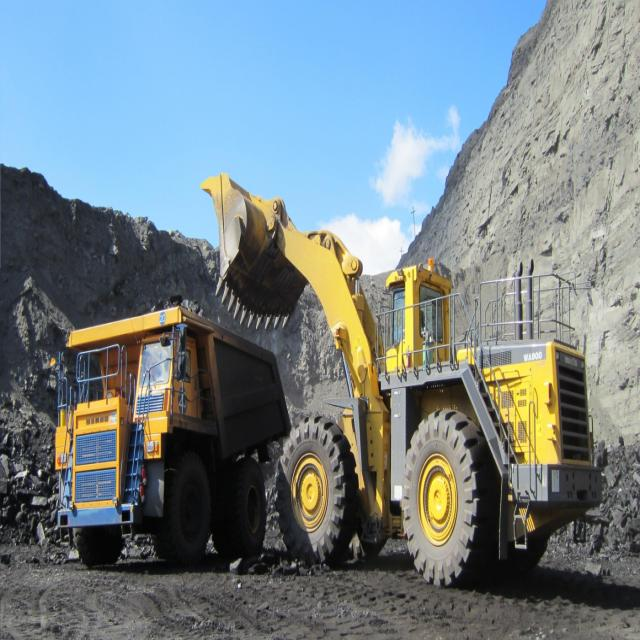buldozerpayloadergrader: (199, 155, 601, 597)
dump_truck: (50, 298, 296, 587)
